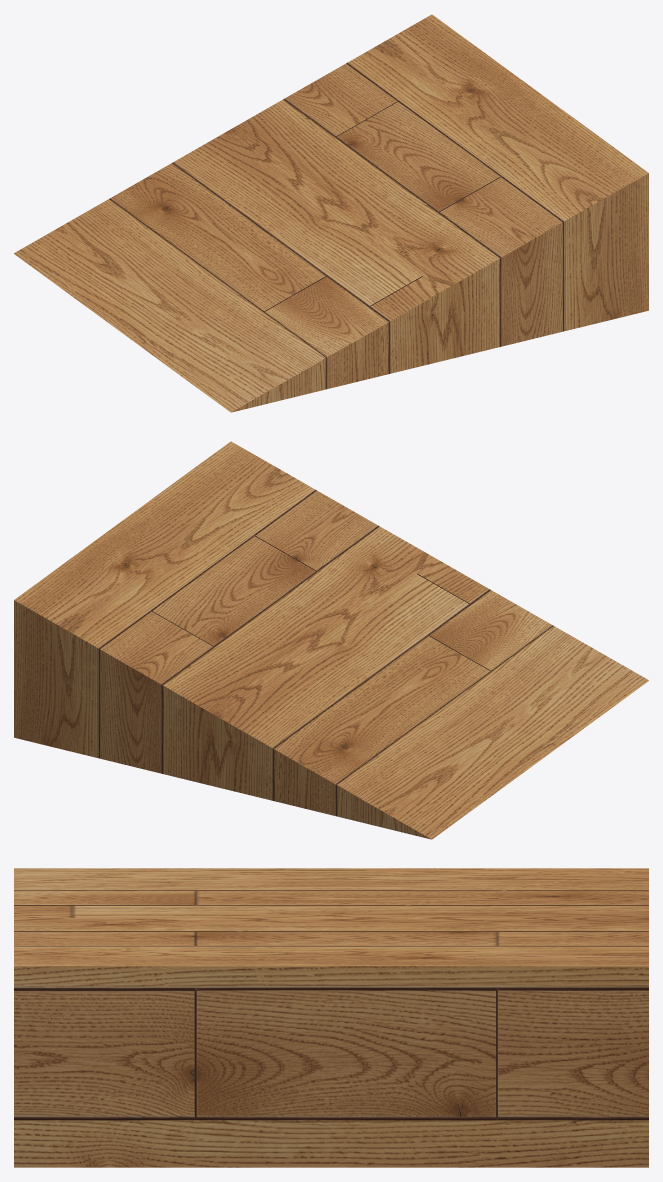
Rendered from oakramplong.glb.
3 views of the same model, one above another, from view 1: azimuth 30°, elevation 25°; view 2: azimuth 150°, elevation 25°; view 3: azimuth 270°, elevation 25° (orthographic). The views are drawn at different scales.
Visible parts, largest first — view 1: Ramp_Oak; view 2: Ramp_Oak; view 3: Ramp_Oak.
Boxes of the visible parts, x1,y1,x2,y2 form: Ramp_Oak: (14,14,648,412); Ramp_Oak: (14,441,648,839); Ramp_Oak: (14,868,648,1167).
Size of the model in its own units: 1.11 by 0.35 by 1.
Materials: 1 (1 with a texture image).
